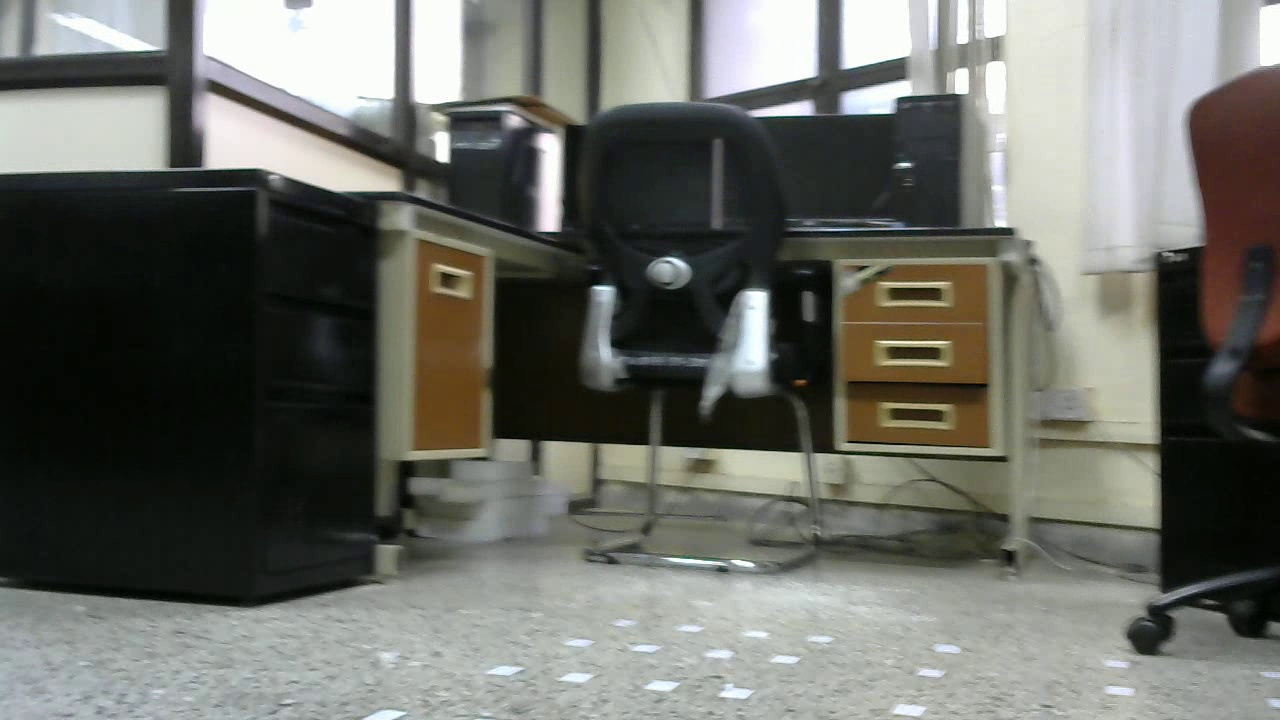chair: (568, 100, 819, 569), (1127, 58, 1280, 655)
